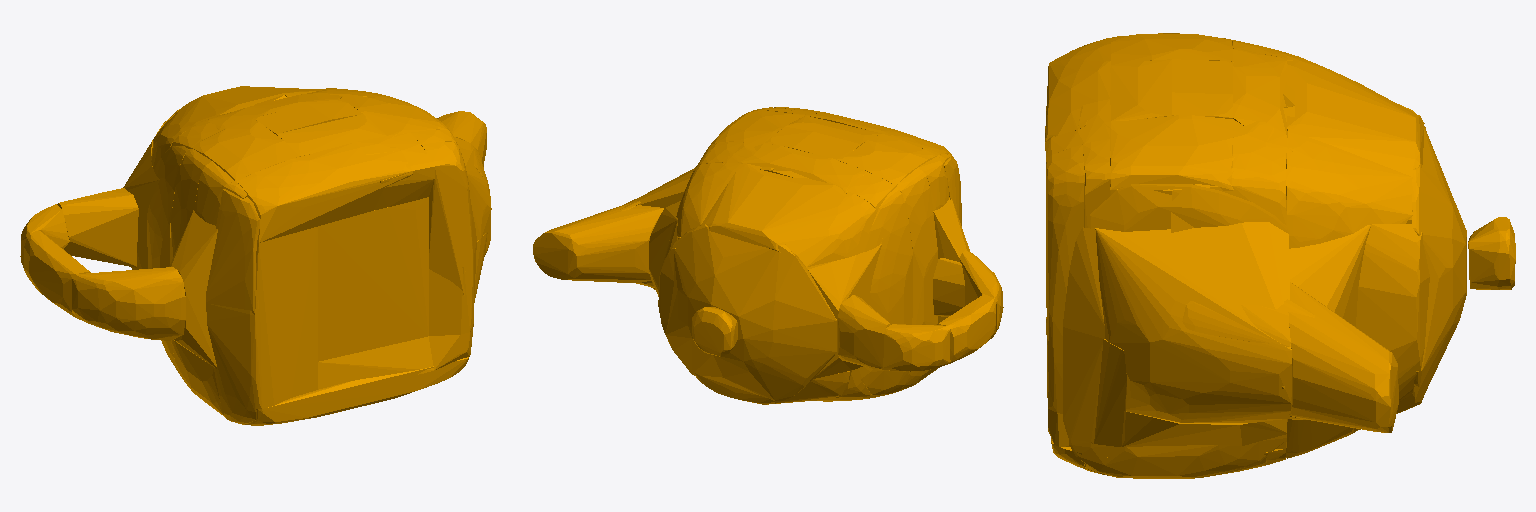
The robot description file, URDF, robot "teapot-white":
<?xml version="1.0" ?>
<robot name="teapot-white">
  <link name="baseLink">
    <contact>
      <lateral_friction value="1.0"/>
      <inertia_scaling value="3.0"/>
    </contact>
    <inertial>
      <origin rpy="0 0 0" xyz="0.000 0.000 0.000"/>
       <mass value=".1"/>
       <inertia ixx="1" ixy="0.0" ixz="0.0" iyy="1" iyz="0.0" izz="1"/>
    </inertial>
    <visual>
      <origin rpy="0 0 0" xyz="0 0 0"/>
      <geometry>
        <mesh filename="teapot/teapot-white_rectangle.obj" scale="1.0 1.0 1.0"/>
      </geometry>
    </visual>
    <collision>
      <origin rpy="0 0 0" xyz="0 0 0"/>
      <geometry>
        <mesh filename="../collision/teapot/teapot-white_rectangle.obj" scale="1.0 1.0 1.0"/>
      </geometry>
    </collision>
  </link>
</robot>
        

--- Render facts (derived) ---
3 views of the same robot in one strip: view 1: azimuth 30°, elevation 25°; view 2: azimuth 150°, elevation 25°; view 3: azimuth 270°, elevation 25° (orthographic).
Model teapot-white with 1 links and 0 joints (none), rooted at baseLink, posed every joint at zero.
Visible links, largest first — view 1: baseLink; view 2: baseLink; view 3: baseLink.
Link boxes in pixels (bbox=[...]): baseLink: bbox=[20, 86, 491, 425]; baseLink: bbox=[533, 107, 1003, 404]; baseLink: bbox=[1045, 33, 1515, 478].
Size in the robot's own frame: 0.189 by 0.1251 by 0.1018 metres.
Meshes: 1 distinct files referenced, 1 mesh visuals loaded (1 OBJ).